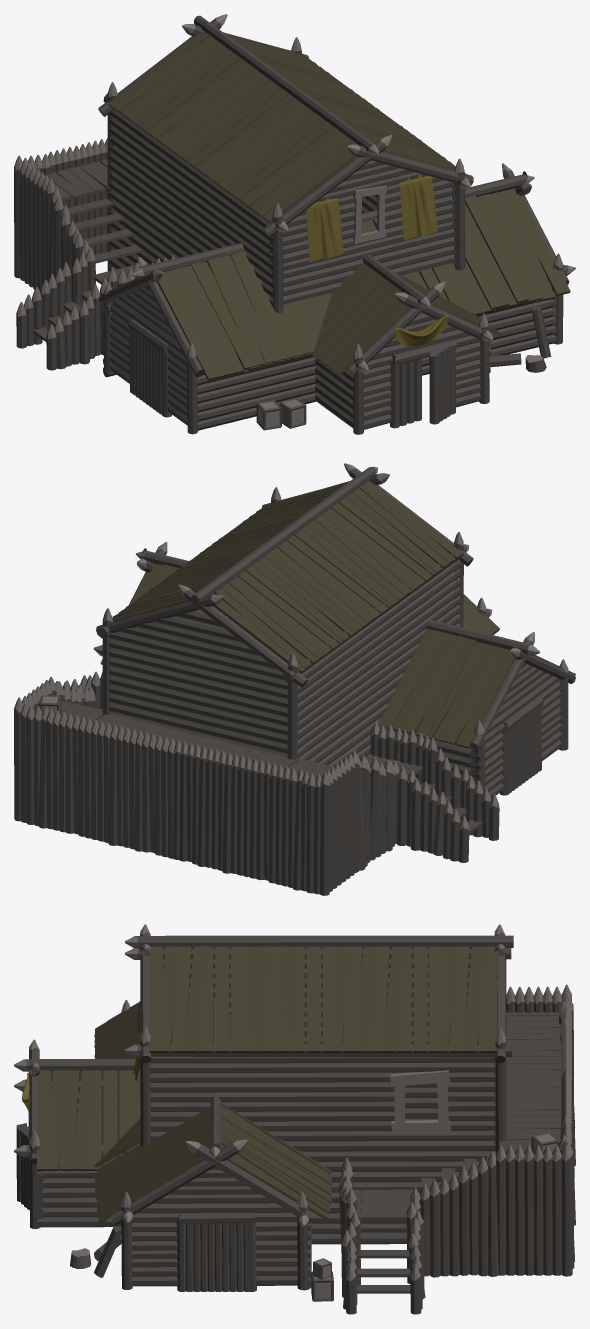
The model's file is headquarter_1lv.fbx.
3 renders of one model, top to bottom at view 1: azimuth 30°, elevation 25°; view 2: azimuth 150°, elevation 25°; view 3: azimuth 270°, elevation 25°, orthographic. The views are drawn at different scales.
Visible parts, largest first — view 1: polySurface1186; view 2: polySurface1186; view 3: polySurface1186.
Part boxes in pixels (x1,y1,x2,y2): polySurface1186: (14,14,575,434); polySurface1186: (14,463,575,895); polySurface1186: (14,924,575,1314).
Bounding box in the file's own units: 961 × 501 × 969.
